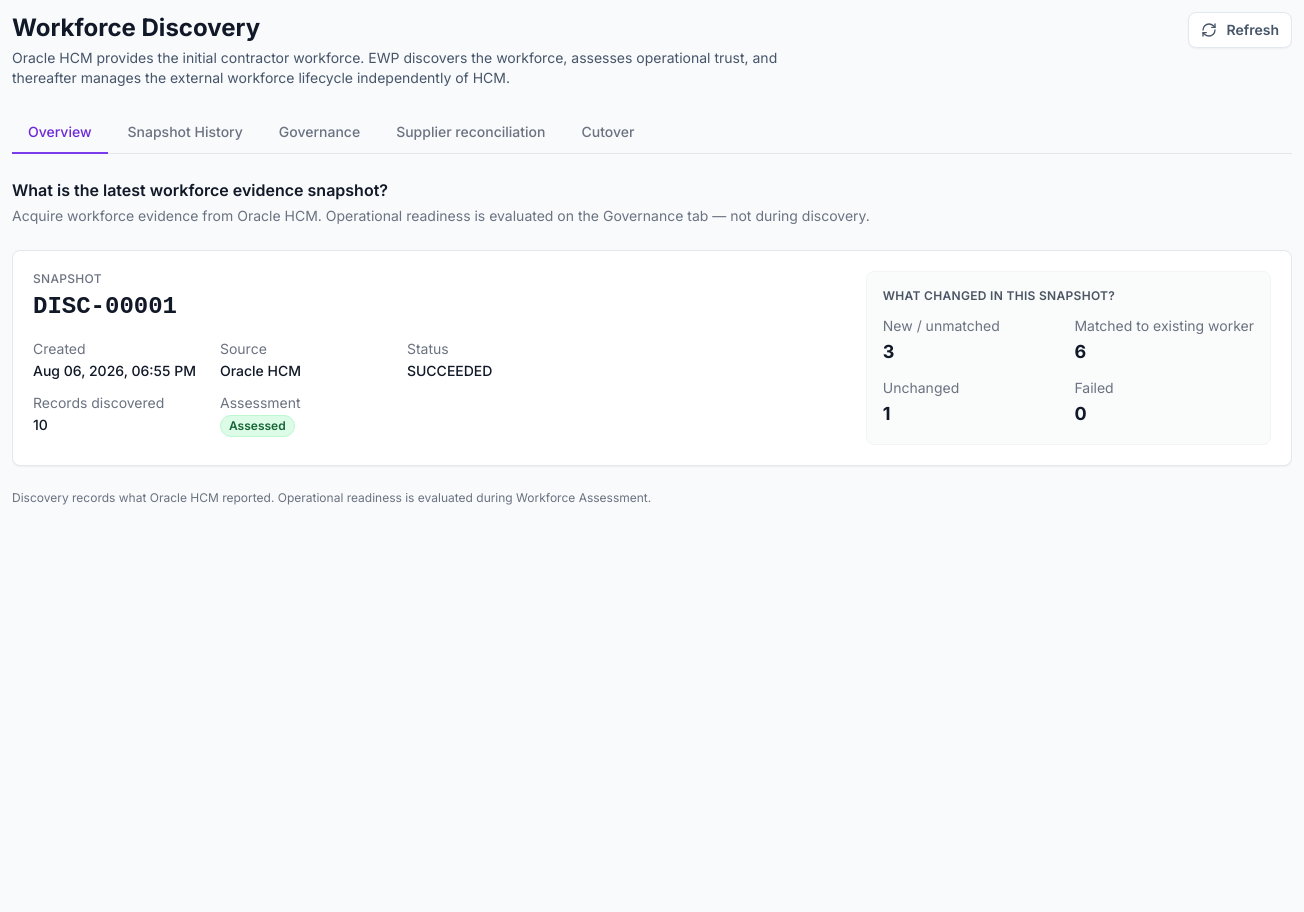
Scenario: HcmConnectorOperationsPanel — migration lineage toggle (render) › operational rows appear before bootstrap rows in the table
Check: the navigation bar with test id "workforce-import-tabs" is shown, box x1=12 y1=112 x2=1292 y2=154
What coordinates should you click on to do the following:
click the tab "Cutover"
I would click on:
 (608, 133)
Its box is x1=566 y1=112 x2=650 y2=154.
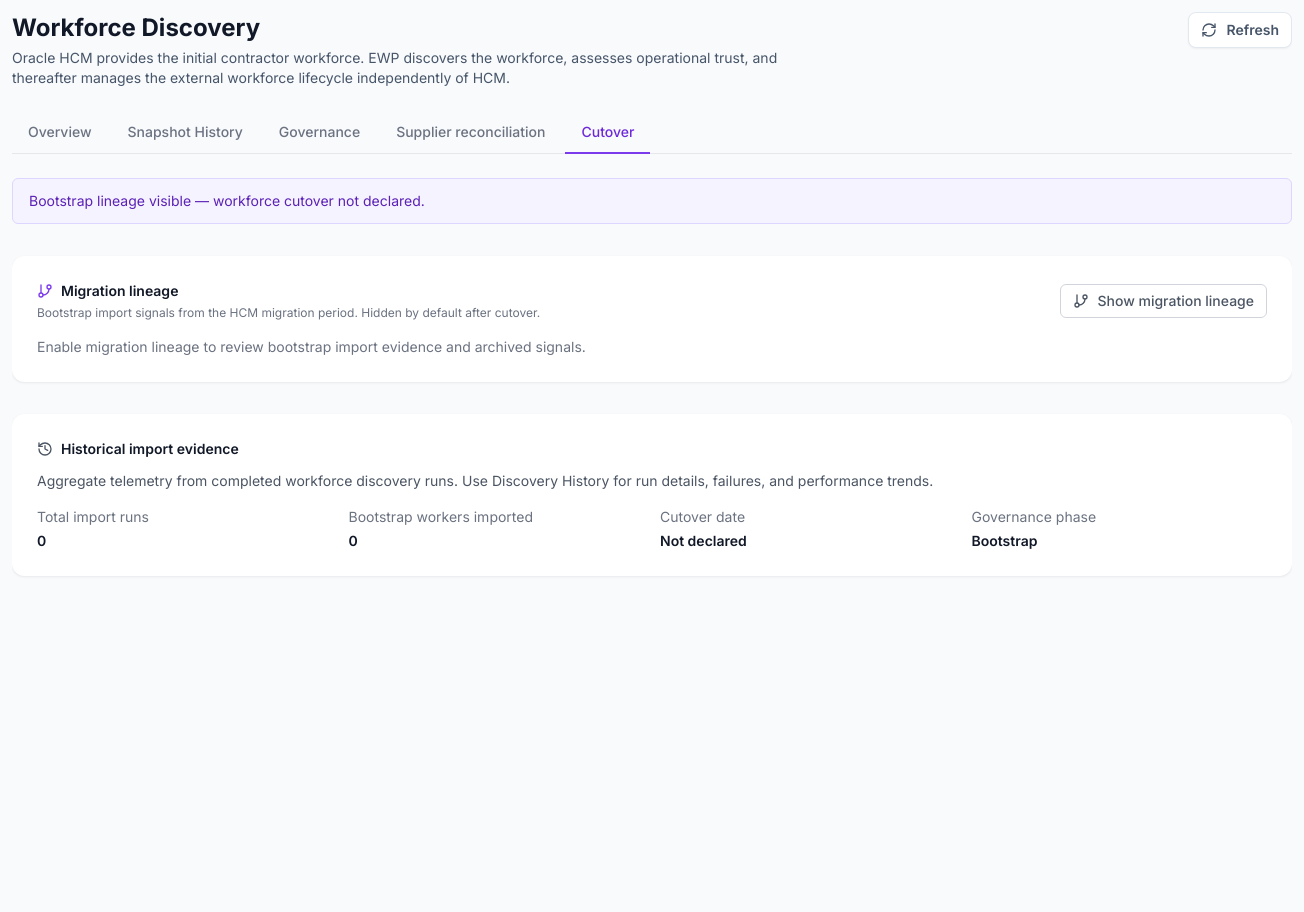
What coordinates should you click on to do the following:
click the button with test id "migration-lineage-toggle"
I would click on:
 (1164, 301)
Its box is x1=1060 y1=284 x2=1267 y2=318.
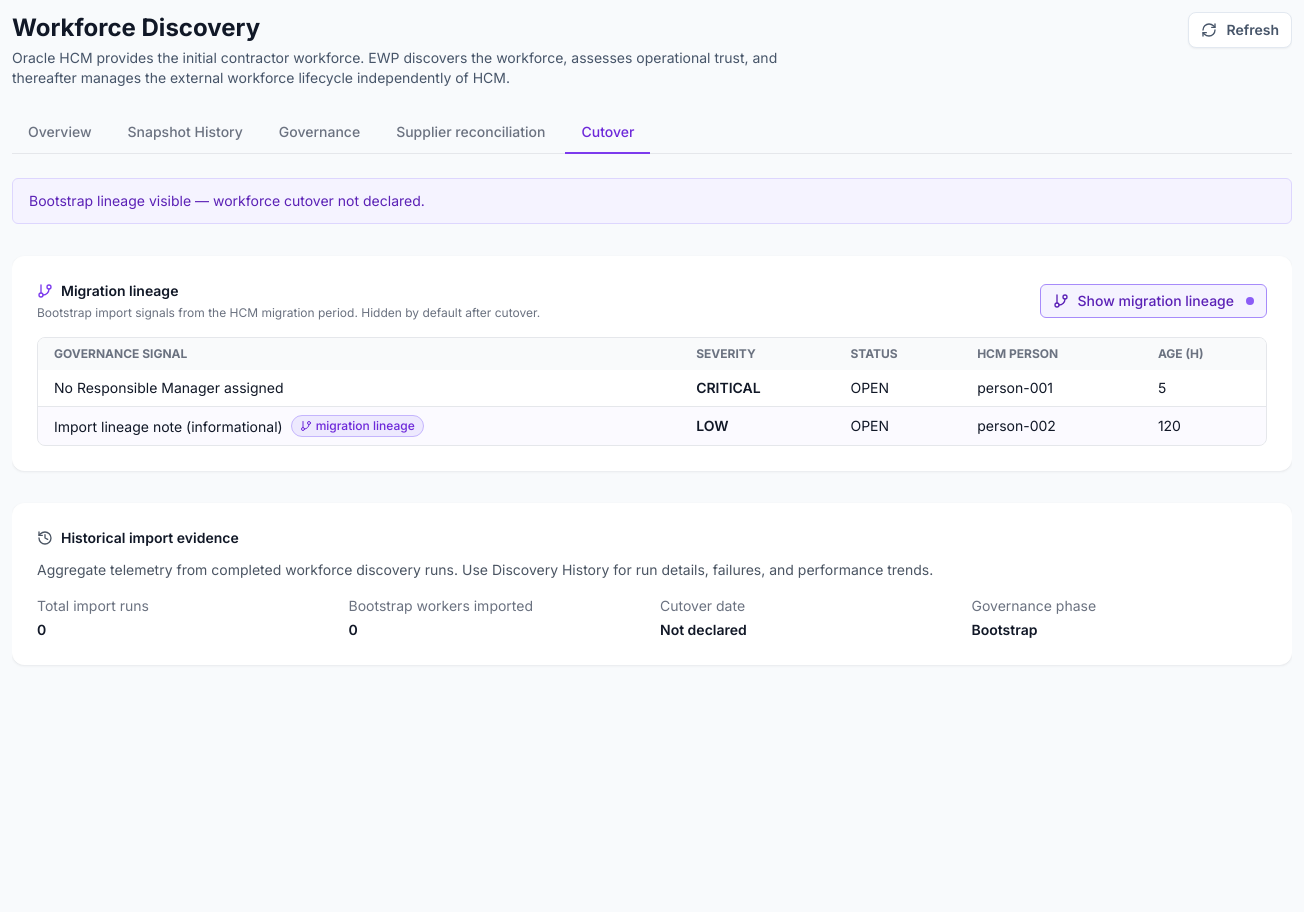
Check: the row with test id "drift-row-operational" is shown, box x1=38 y1=370 x2=1266 y2=406
Check: the row with test id "drift-row-bootstrap" is shown, box x1=38 y1=406 x2=1266 y2=445
